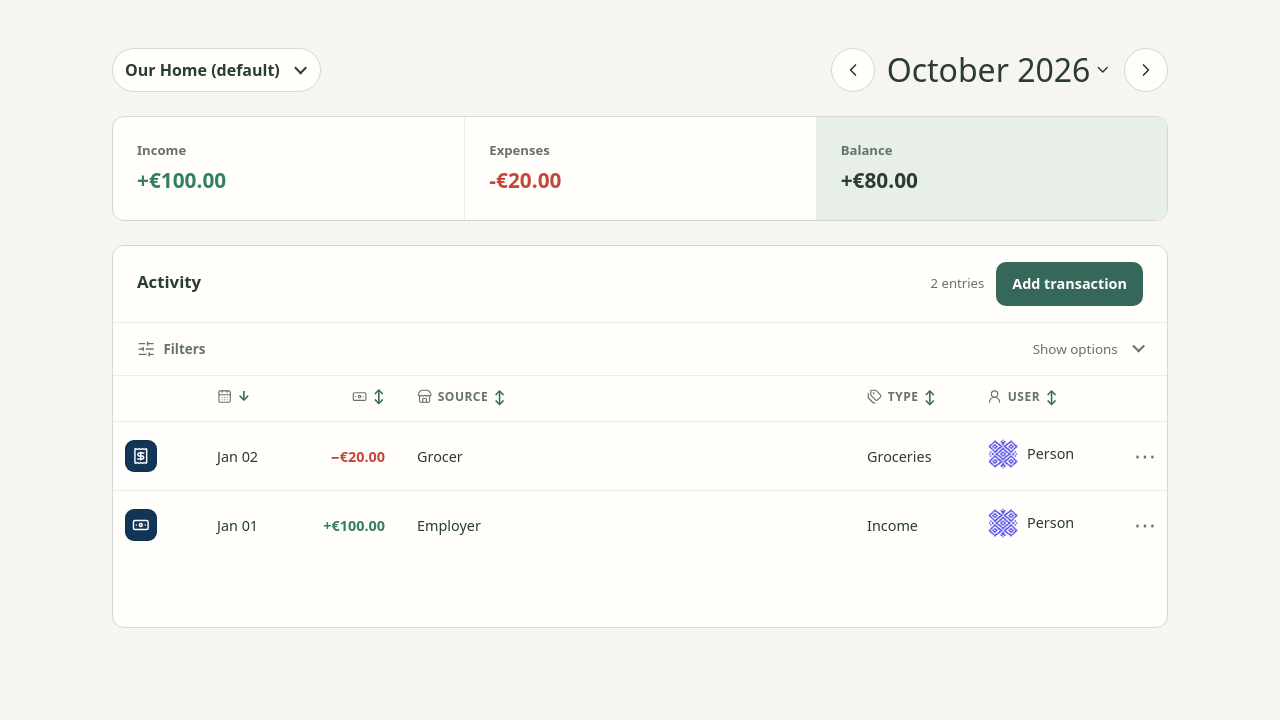
household dashboard › shows a household name for one household and a selector for multiple households
The width and height of the screenshot is (1280, 720).
Select "Weekend Home" in the dropdown named "Household": (216,70) [112,48,321,92]
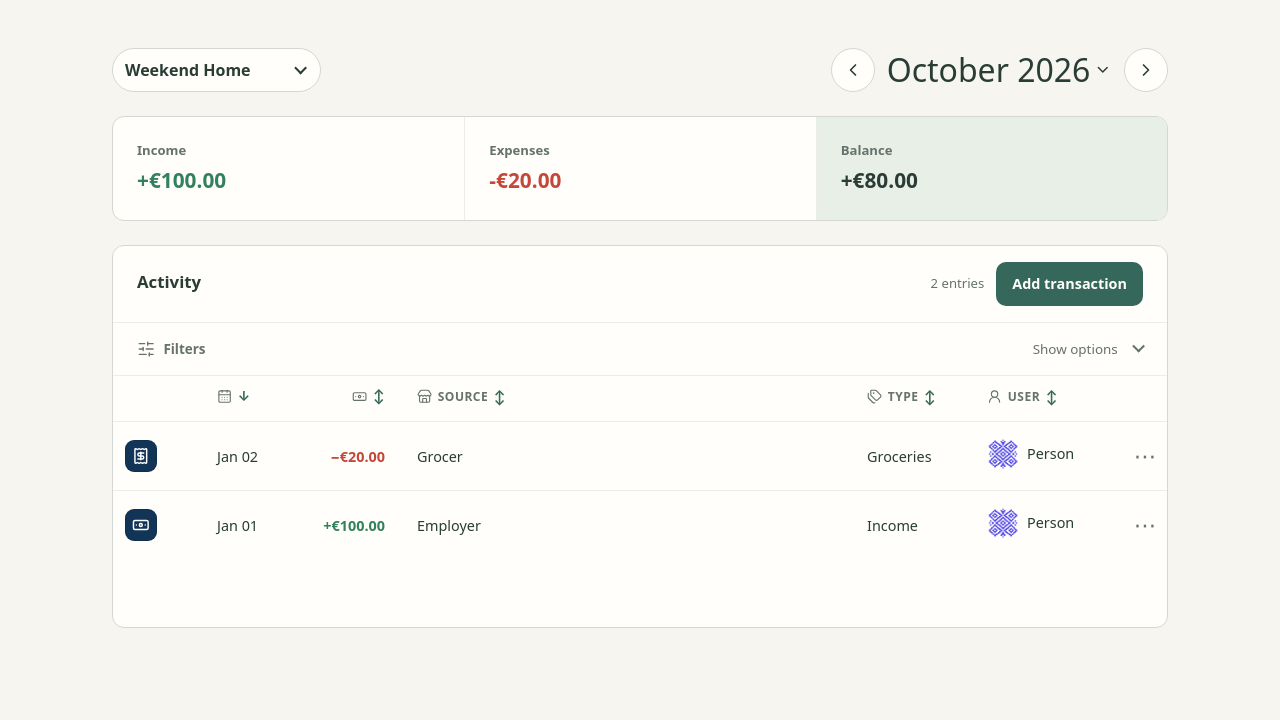
Expected: the dropdown named "Household" shows "Weekend Home", [112,48,321,92]
